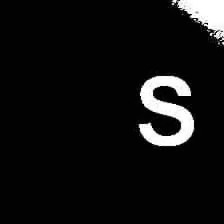LTR_S: (134, 70, 194, 149)
